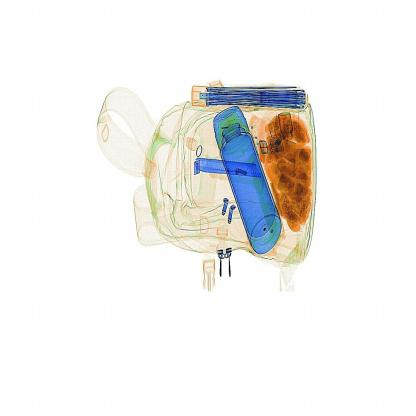pliers: (192, 152, 260, 186)
